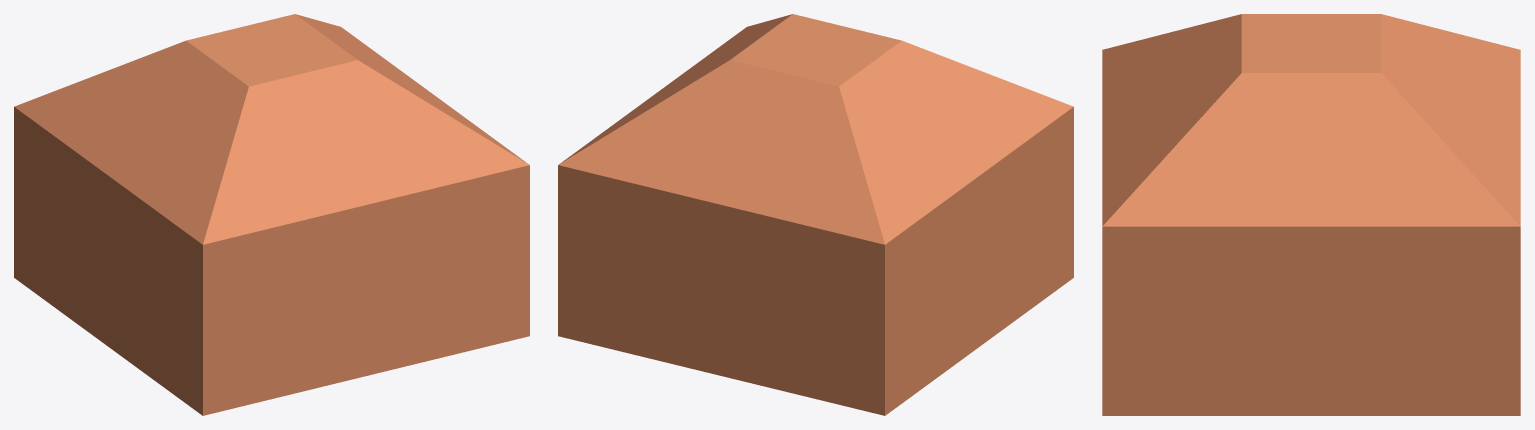
3 views of the same model, side by side, from view 1: azimuth 30°, elevation 25°; view 2: azimuth 150°, elevation 25°; view 3: azimuth 270°, elevation 25° (orthographic). The views are drawn at different scales.
Parts seen in each view (by area): view 1: Cube; view 2: Cube; view 3: Cube.
Boxes of the visible parts, box(x1,y1,x2,y2) form: Cube: box(14, 14, 529, 415); Cube: box(558, 14, 1073, 415); Cube: box(1102, 14, 1520, 415).
Size of the model in its own units: 200 by 150 by 200.
